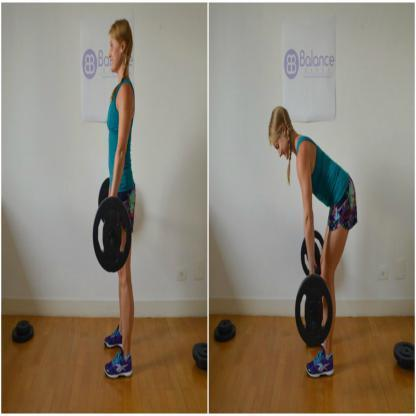barbell: (296, 230, 336, 346), (93, 177, 130, 272)
